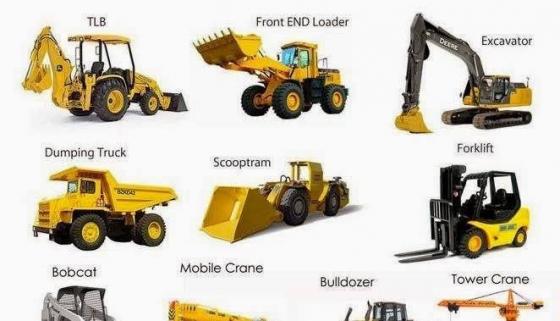backhoe: (393, 8, 538, 142)
truck: (31, 166, 178, 254)
